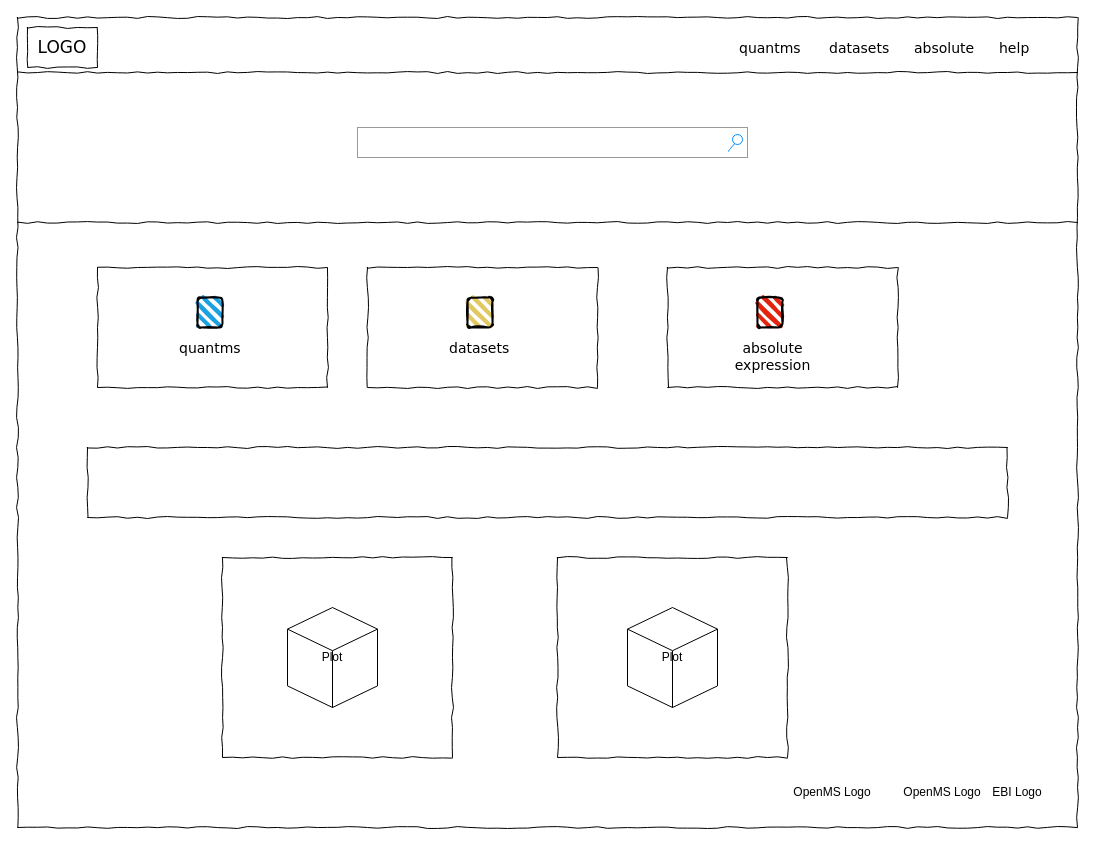
Image size: 1095x845. Some labels were removed from this diagram. Here are the shapes that lost their labels. From the top down, the centre of each, then its label:
At (x=552, y=142): "Search".
At (x=547, y=482): "Text describing the initiative and the results.".
